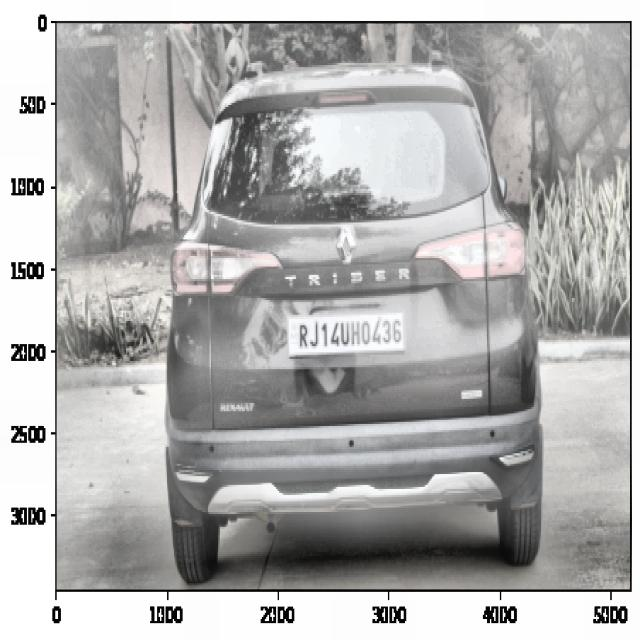license_plate: (290, 310, 405, 359)
